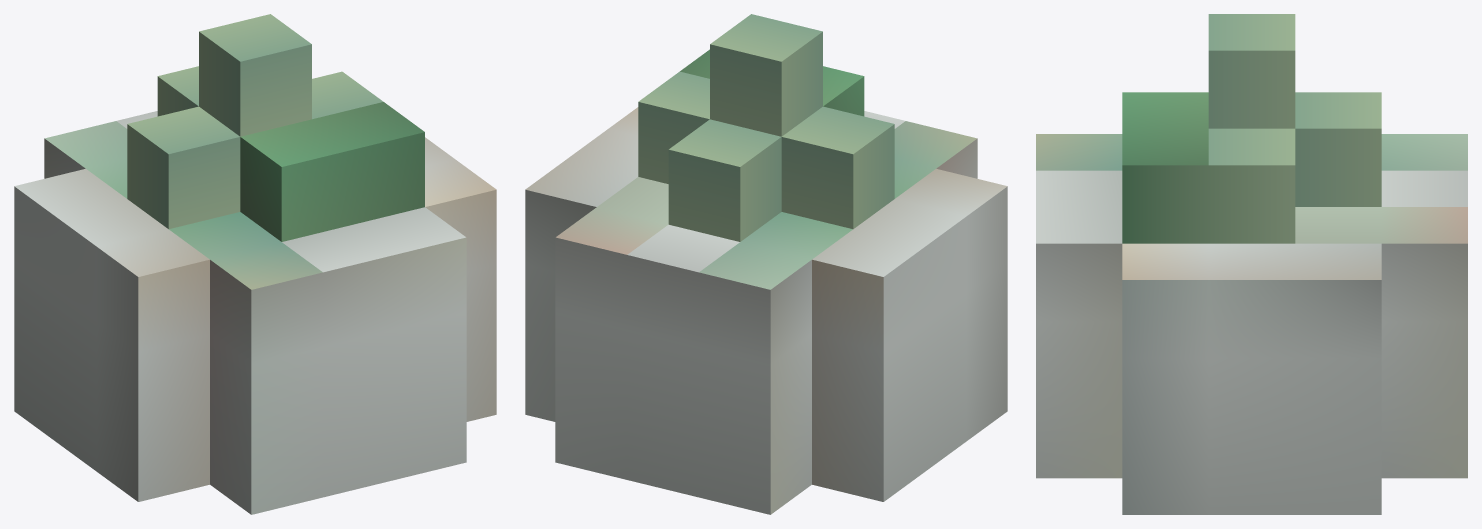
Rendered from BowlWithFood_00.obj.
The picture shows the model from 3 angles, left to right: view 1: azimuth 30°, elevation 25°; view 2: azimuth 150°, elevation 25°; view 3: azimuth 270°, elevation 25°; orthographic projection. The views are drawn at different scales.
Visible parts, largest first — view 1: BowlWithFood_00; view 2: BowlWithFood_00; view 3: BowlWithFood_00.
Part boxes in pixels (x1,y1,x2,y2): BowlWithFood_00: (14,14,496,514); BowlWithFood_00: (525,14,1007,514); BowlWithFood_00: (1036,14,1467,514).
Bounding box in the file's own units: 0.25 × 0.25 × 0.25.
